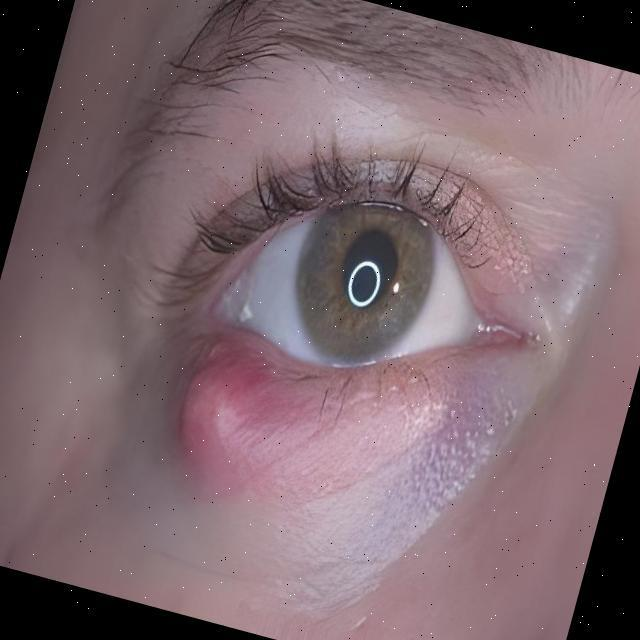Stye: (117, 316, 334, 514)
